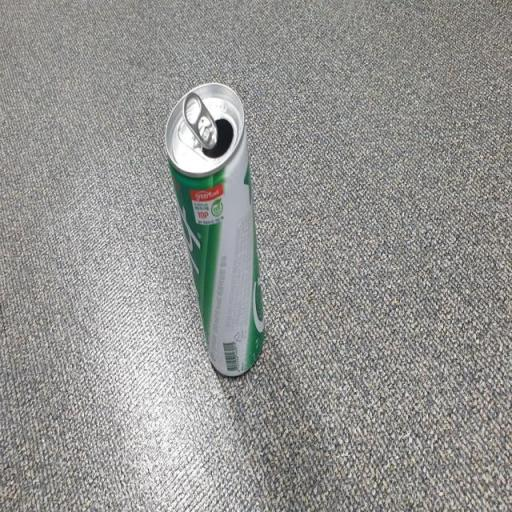metal: (162, 68, 273, 388)
